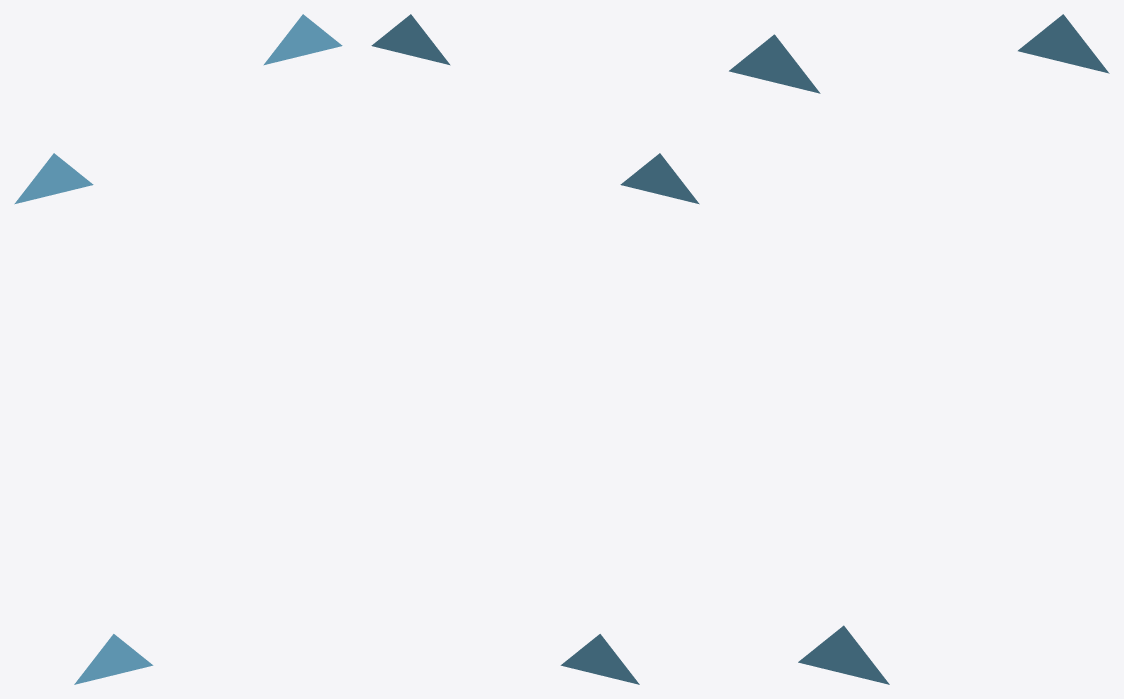
File: UnrealRig.gltf
3 renders of one model, left to right at view 1: azimuth 30°, elevation 25°; view 2: azimuth 150°, elevation 25°; view 3: azimuth 330°, elevation 25°, orthographic. The views are drawn at different scales.
Parts seen in each view (by area): view 1: ChestMarker, ForearmMarker, ShinMarker; view 2: ChestMarker, ForearmMarker, ShinMarker; view 3: ForearmMarker, ChestMarker, ShinMarker.
Part boxes in pixels (x1=…): ChestMarker: x1=14, y1=153, x2=93, y2=204; ForearmMarker: x1=263, y1=14, x2=342, y2=65; ShinMarker: x1=74, y1=634, x2=153, y2=684; ChestMarker: x1=620, y1=153, x2=699, y2=204; ForearmMarker: x1=371, y1=14, x2=450, y2=65; ShinMarker: x1=560, y1=634, x2=639, y2=684; ForearmMarker: x1=1018, y1=14, x2=1109, y2=73; ChestMarker: x1=729, y1=34, x2=820, y2=93; ShinMarker: x1=798, y1=625, x2=889, y2=684.
Size of the model in its own units: 0.66 by 1.18 by 0.
